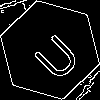U: (25, 25, 83, 84)
